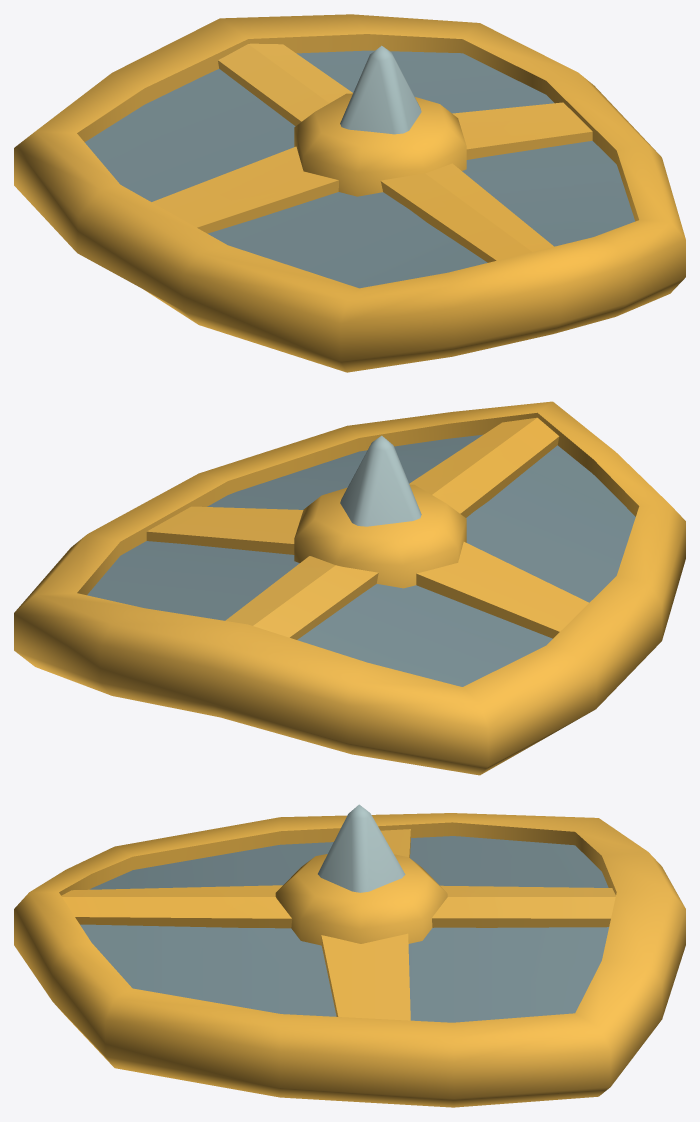
File: shield_02.fbx
The picture shows the model from 3 angles, top to bottom: view 1: azimuth 30°, elevation 25°; view 2: azimuth 150°, elevation 25°; view 3: azimuth 270°, elevation 25°; orthographic projection. The views are drawn at different scales.
Visible parts, largest first — view 1: shield_02; view 2: shield_02; view 3: shield_02.
Boxes of the visible parts, bbox=[...] form: shield_02: bbox=[14, 14, 685, 372]; shield_02: bbox=[14, 401, 685, 775]; shield_02: bbox=[14, 804, 685, 1107].
Bounding box in the file's own units: 0.6745 × 0.3119 × 0.7812.
2 materials, 2 textured.
